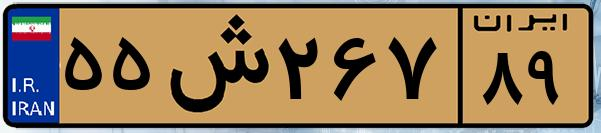2: (270, 28, 330, 110)
5: (57, 26, 110, 100), (110, 28, 158, 98)
6: (330, 28, 385, 110)
7: (385, 28, 445, 110)
8: (475, 38, 525, 113)
9: (525, 38, 570, 115)
ش: (158, 12, 270, 120)
